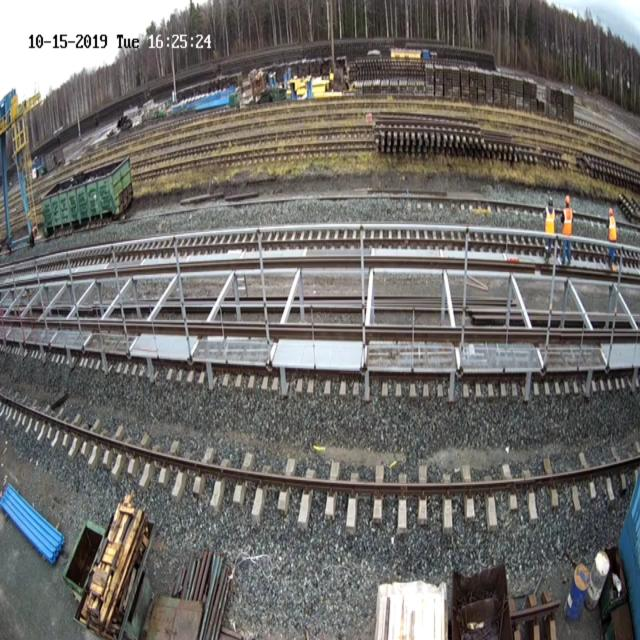Helmet: (608, 207, 614, 216), (565, 195, 570, 204), (548, 196, 553, 205)
Person: (542, 196, 556, 264), (560, 194, 573, 266), (607, 207, 618, 271)
